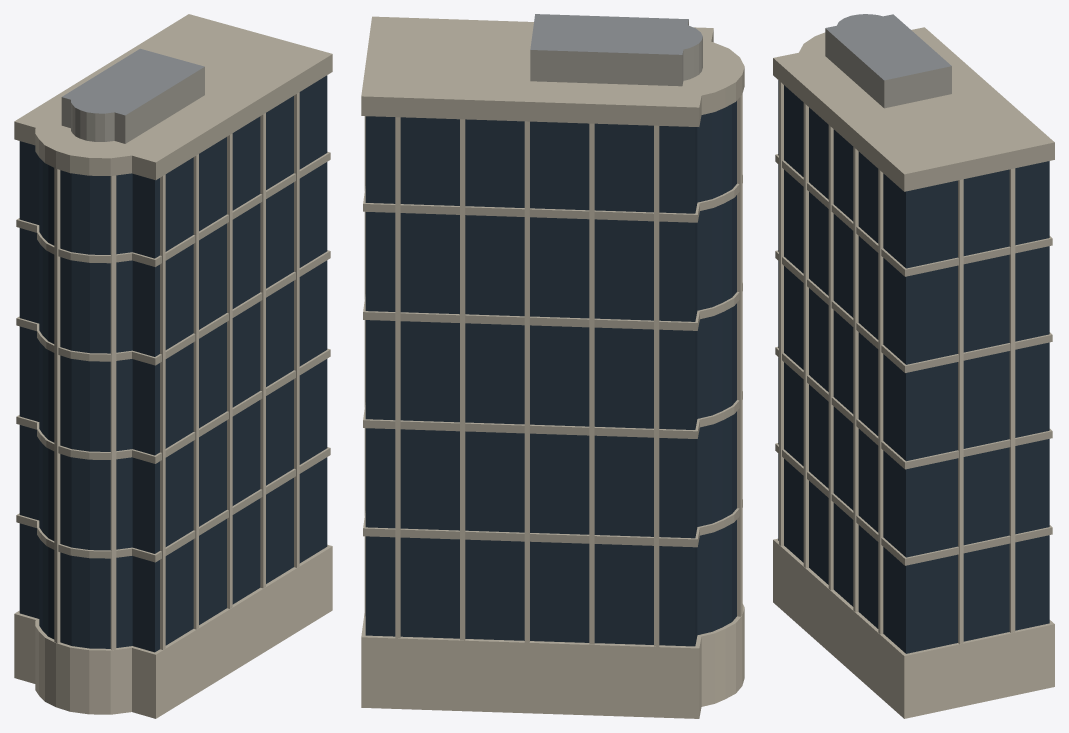
The model's file is bldg_w134921371.glb.
3 renders of one model, left to right at view 1: azimuth 30°, elevation 25°; view 2: azimuth 150°, elevation 25°; view 3: azimuth 270°, elevation 25°, orthographic. The views are drawn at different scales.
Visible parts, largest first — view 1: Bldg_w134921371; view 2: Bldg_w134921371; view 3: Bldg_w134921371.
Boxes of the visible parts, x1,y1,x2,y2 form: Bldg_w134921371: (14, 14, 332, 718); Bldg_w134921371: (361, 14, 744, 718); Bldg_w134921371: (773, 14, 1054, 718).
Size of the model in its own units: 45.41 by 82 by 36.57.
